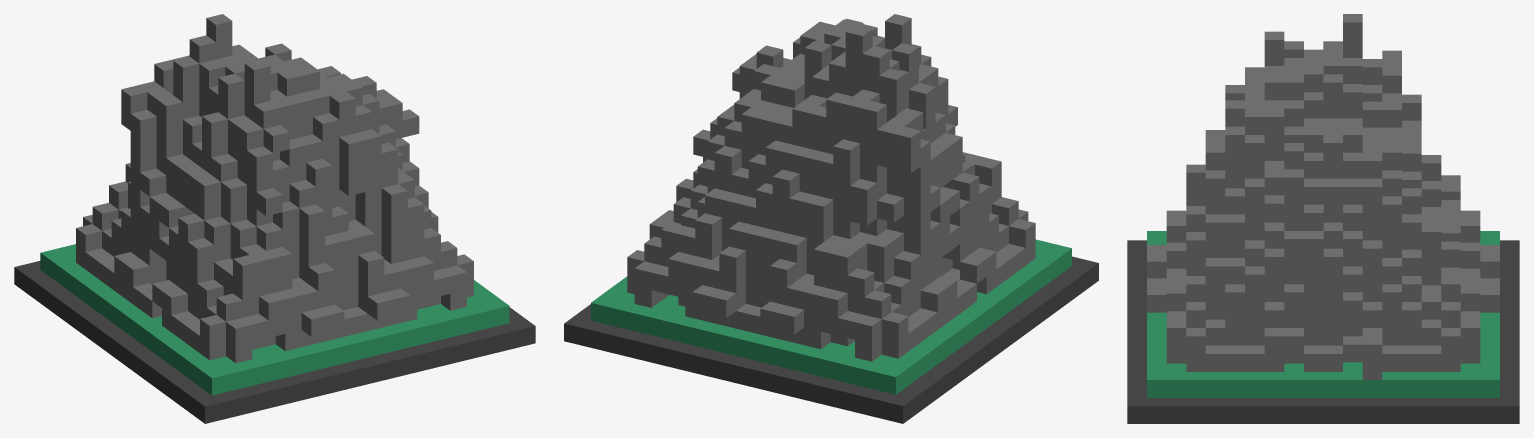
File: mountain.obj
3 renders of one model, left to right at view 1: azimuth 30°, elevation 25°; view 2: azimuth 150°, elevation 25°; view 3: azimuth 270°, elevation 25°, orthographic. The views are drawn at different scales.
Size of the model in its own units: 20 by 17 by 20.
Materials: 1 (1 with a texture image).
